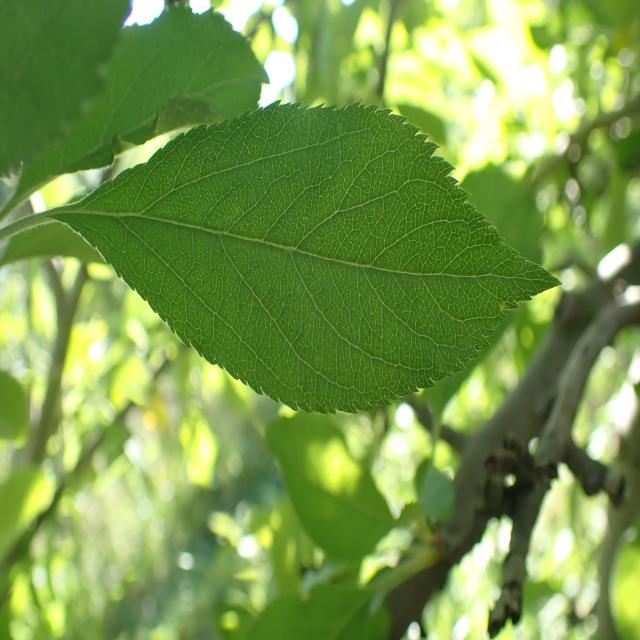healthy: (72, 99, 564, 416), (2, 3, 270, 204), (0, 0, 133, 181)
